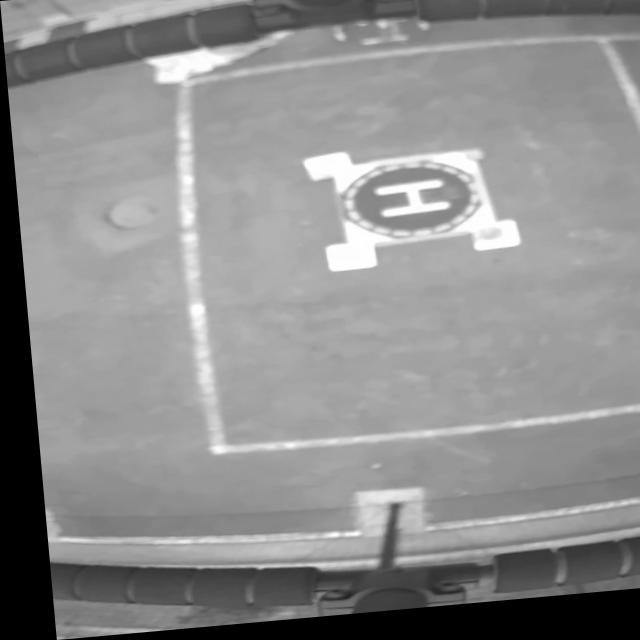Helipad: (372, 185, 447, 224)
